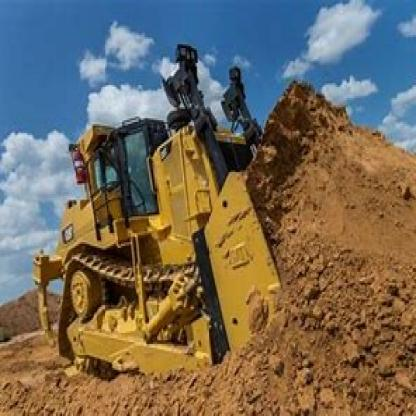bull_dozer/loader/grader: (13, 44, 372, 378)
